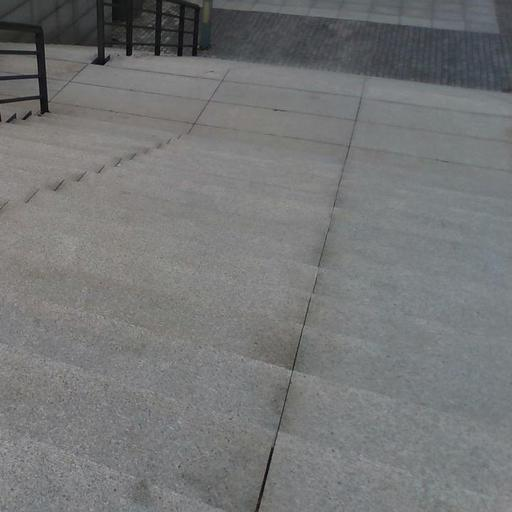stairs: (0, 114, 339, 511)
